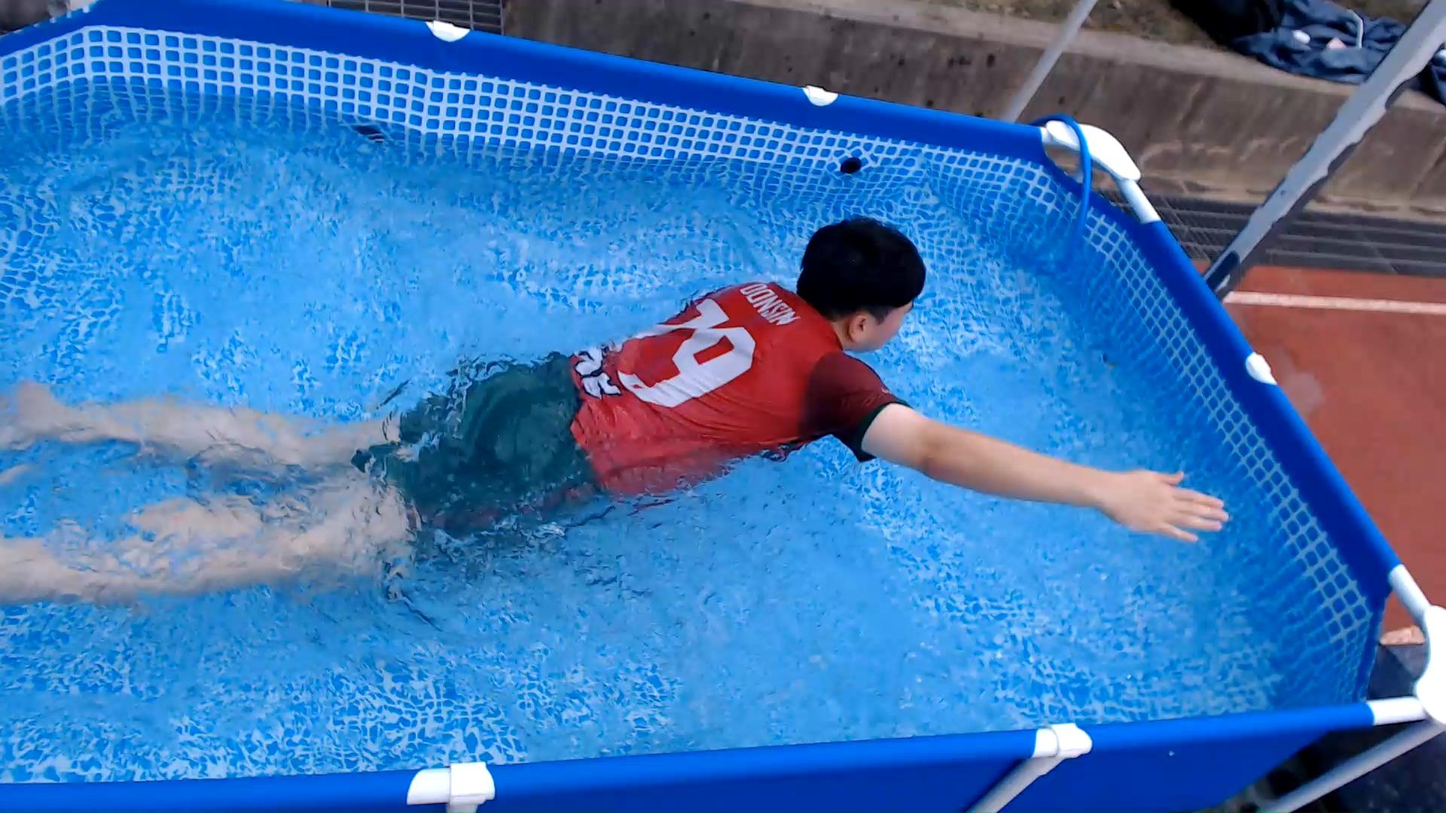Swimming: (3, 202, 1244, 708)
